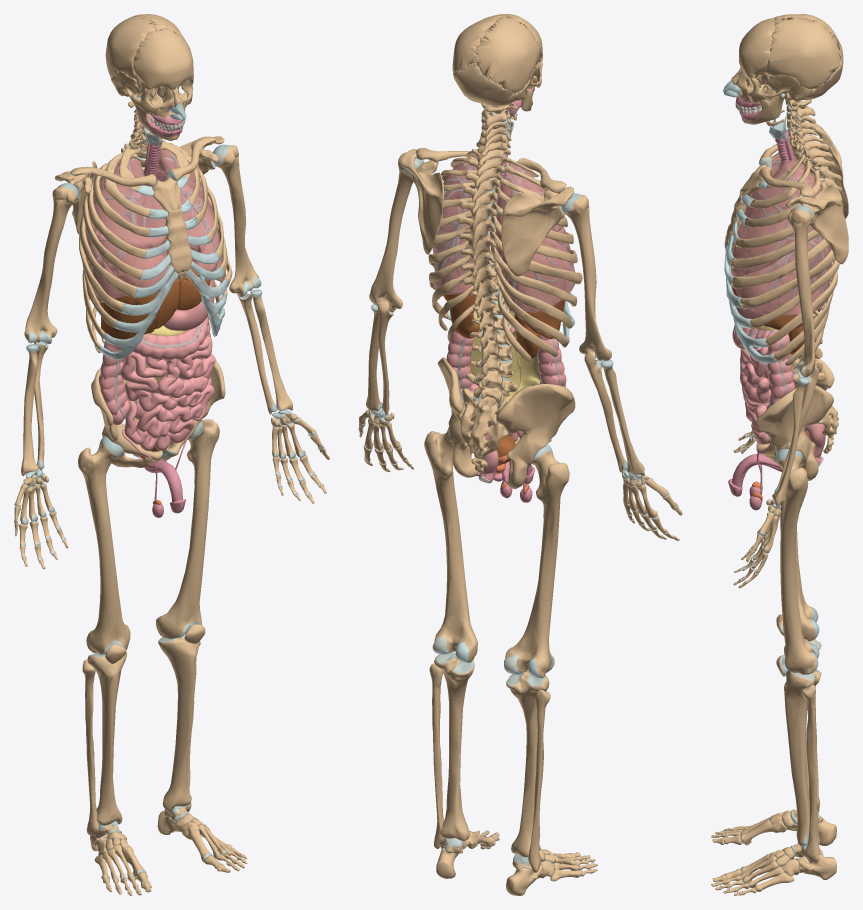
File: splanchnology.glb
3 renders of one model, left to right at view 1: azimuth 30°, elevation 25°; view 2: azimuth 150°, elevation 25°; view 3: azimuth 270°, elevation 25°, orthographic. The views are drawn at different scales.
Visible parts, largest first — view 1: Object_8, Object_53, Object_41, Object_62, Object_70, Object_66, Object_2; view 2: Object_8, Object_62, Object_41, Object_53, Object_70, Object_77, Object_2, Object_66; view 3: Object_8, Object_62, Object_41, Object_53, Object_66, Object_2, Object_70, Object_59.
Part boxes in pixels (left/top/right/bottom): Object_8: left=14, top=14, right=329, bottom=895; Object_53: left=99, top=280, right=215, bottom=456; Object_41: left=14, top=95, right=323, bottom=891; Object_62: left=85, top=149, right=225, bottom=302; Object_70: left=99, top=259, right=210, bottom=451; Object_66: left=122, top=108, right=194, bottom=517; Object_2: left=89, top=152, right=221, bottom=273; Object_8: left=358, top=14, right=682, bottom=895; Object_62: left=432, top=155, right=574, bottom=312; Object_41: left=360, top=88, right=676, bottom=876; Object_53: left=446, top=311, right=566, bottom=482; Object_70: left=443, top=293, right=565, bottom=463; Object_77: left=470, top=310, right=540, bottom=434; Object_2: left=435, top=157, right=565, bottom=303; Object_66: left=462, top=87, right=535, bottom=502; Object_8: left=711, top=14, right=848, bottom=895; Object_62: left=730, top=155, right=831, bottom=315; Object_41: left=716, top=79, right=824, bottom=894; Object_53: left=732, top=295, right=825, bottom=464; Object_66: left=728, top=95, right=795, bottom=510; Object_2: left=745, top=158, right=827, bottom=303; Object_70: left=730, top=251, right=808, bottom=443; Object_59: left=733, top=326, right=805, bottom=438.
Size of the model in its own units: 0.6691 by 1.7 by 0.2501.
